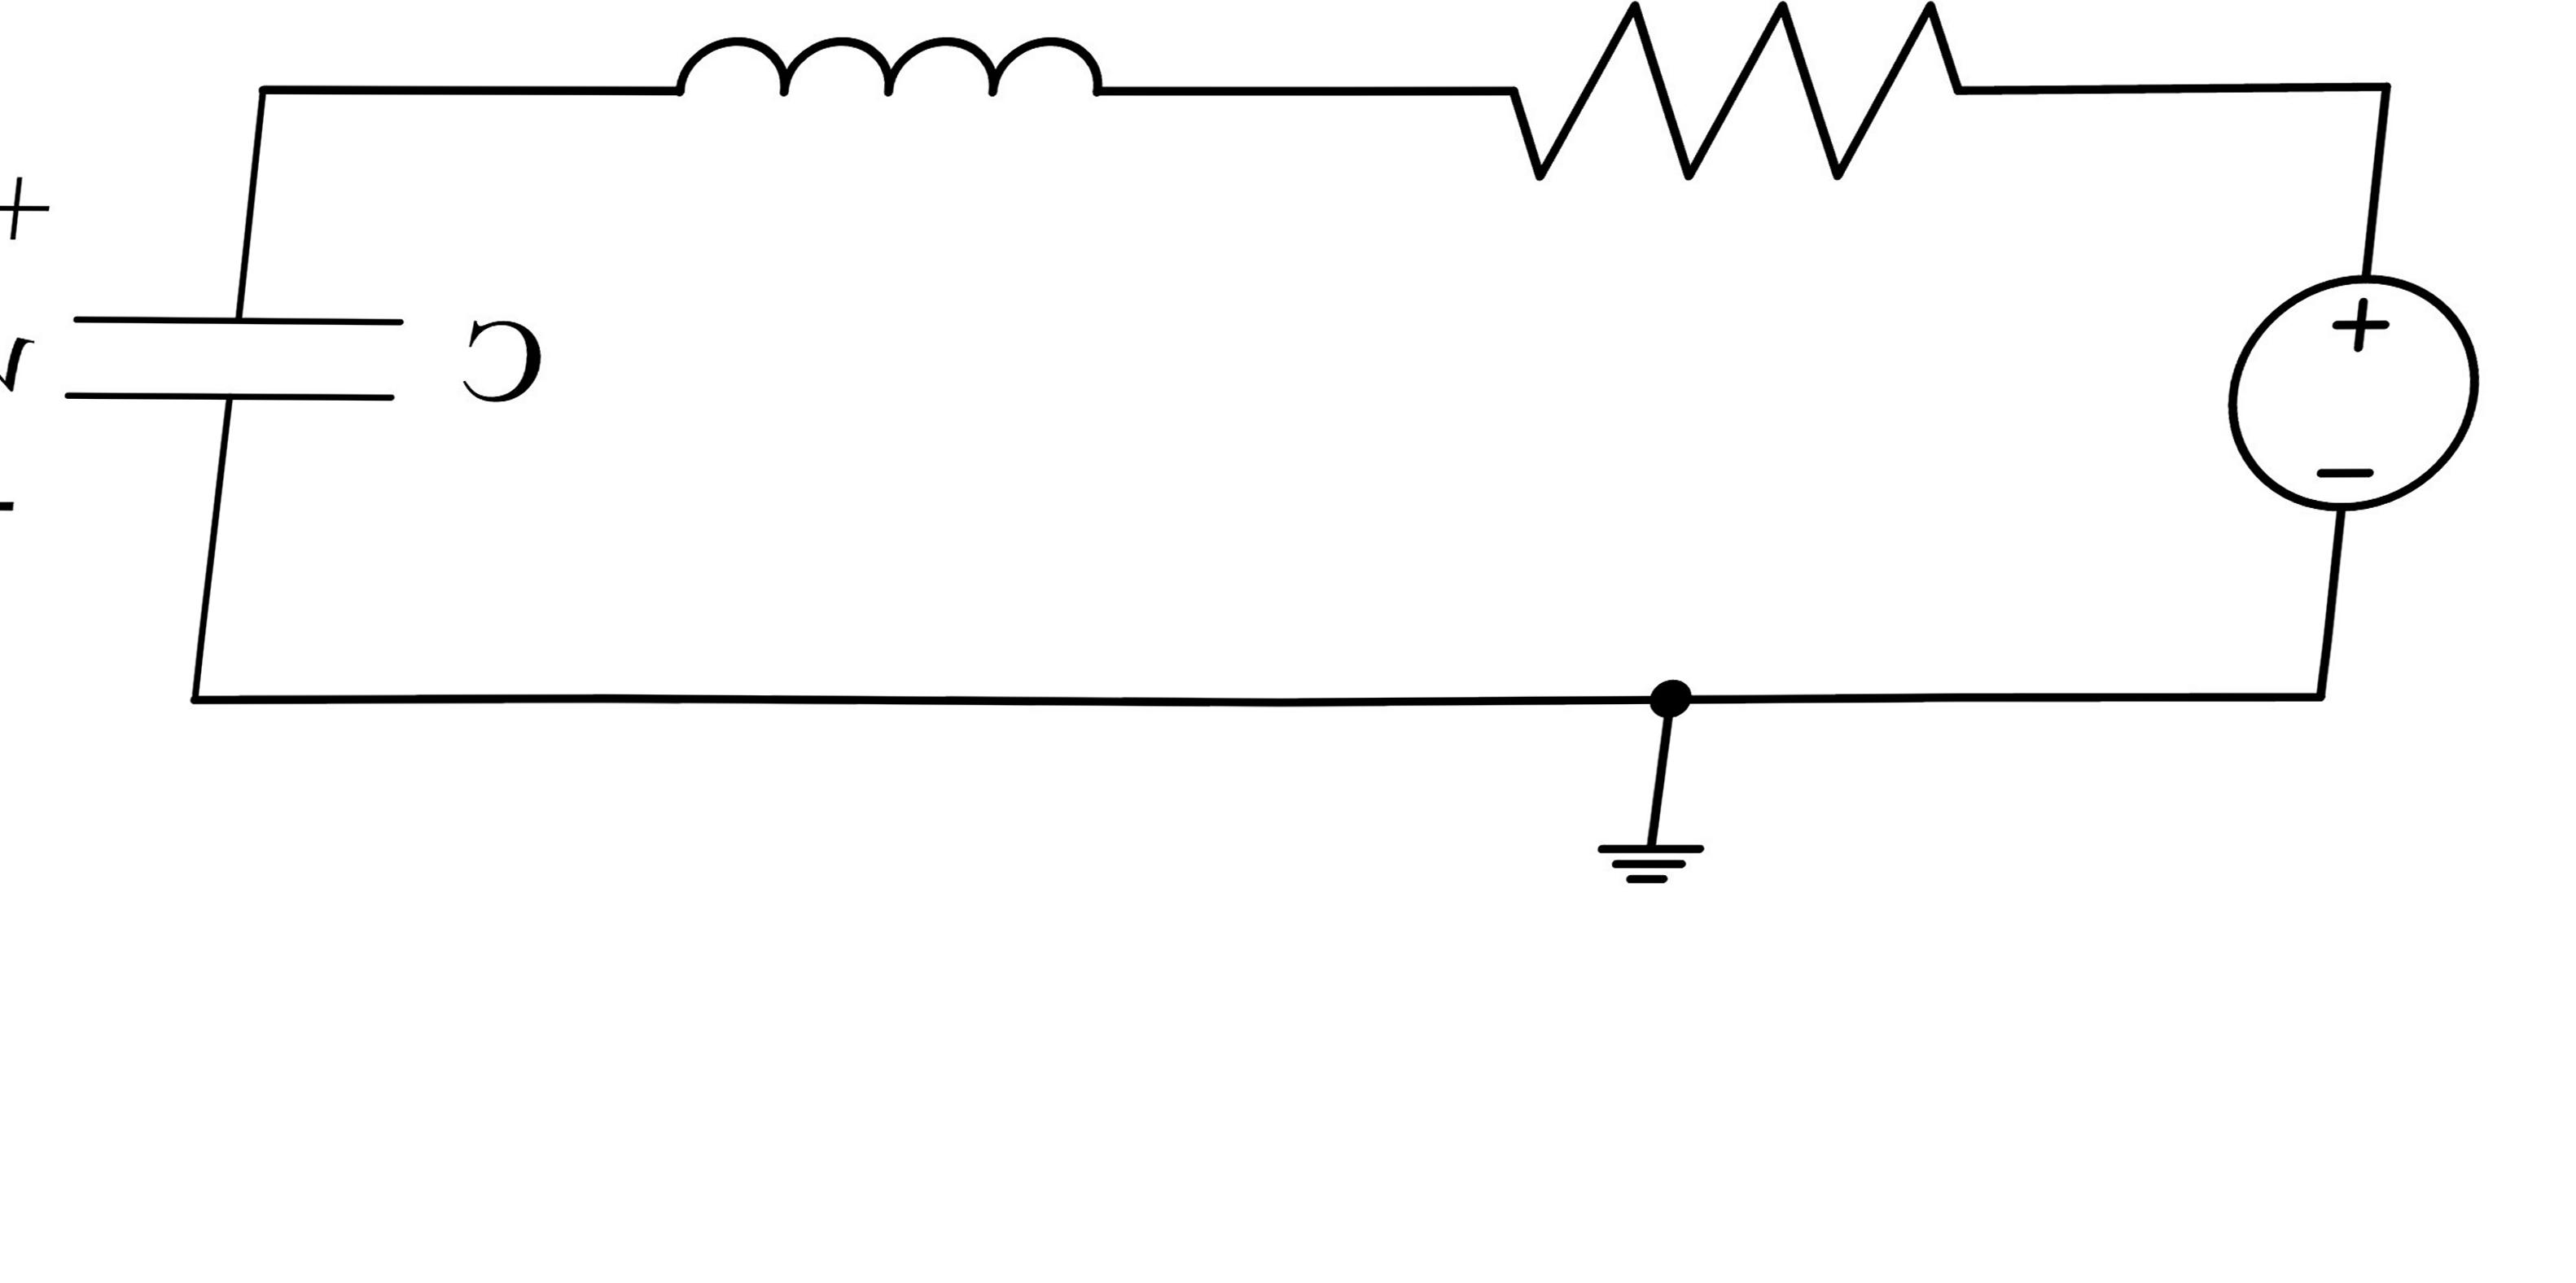Battery: (2154, 228, 2538, 572)
